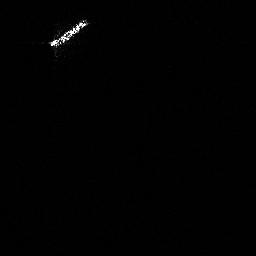ship: (50, 19, 86, 48)
